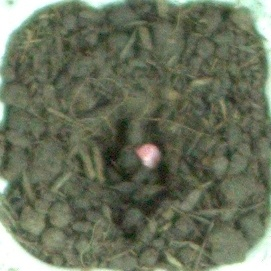chilli seed: (133, 142, 163, 170)
